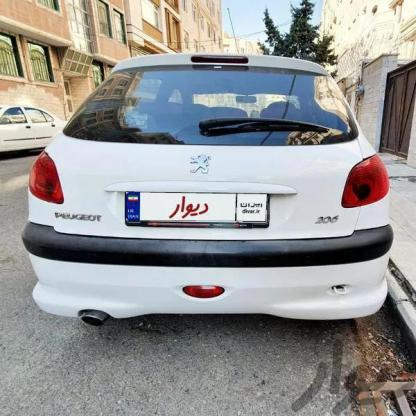Car: (23, 44, 396, 352), (0, 90, 87, 152)
